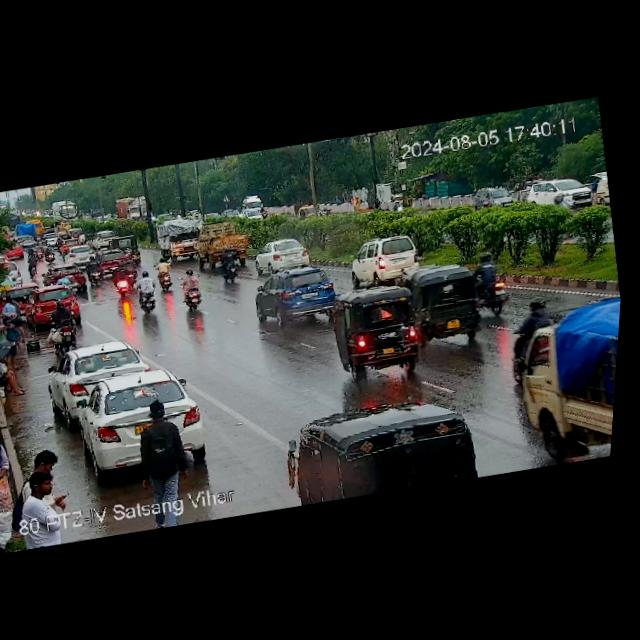bus: (49, 197, 81, 223), (240, 193, 264, 212)
car: (277, 379, 499, 507), (65, 362, 208, 461), (328, 278, 426, 377), (396, 257, 493, 348), (45, 335, 150, 409), (247, 260, 346, 334), (352, 227, 442, 288), (523, 171, 593, 213), (19, 279, 79, 326), (250, 235, 317, 275), (156, 215, 204, 262), (44, 259, 93, 298), (467, 179, 524, 211), (93, 245, 132, 275), (1, 282, 43, 307), (111, 233, 142, 260), (63, 243, 97, 265), (92, 229, 122, 249), (240, 207, 267, 226), (296, 200, 318, 219), (59, 235, 84, 251), (2, 242, 24, 260), (220, 206, 242, 222), (43, 231, 62, 246), (67, 227, 84, 239)
motorcycle: (462, 245, 518, 319), (502, 298, 563, 348), (42, 296, 83, 351), (214, 243, 253, 286), (178, 267, 210, 315), (134, 269, 163, 314), (152, 253, 178, 293), (109, 261, 132, 301), (117, 252, 138, 289), (84, 260, 103, 287), (23, 253, 40, 281), (42, 242, 57, 264), (389, 196, 406, 213)
person: (119, 395, 201, 529), (12, 446, 76, 527), (0, 347, 24, 399), (1, 292, 23, 323)
truck: (488, 287, 621, 468), (192, 217, 255, 267), (112, 192, 152, 225), (14, 220, 35, 239)
